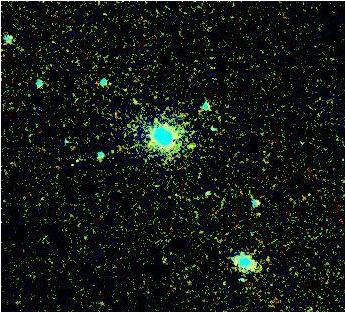star: (176, 127, 206, 157)
